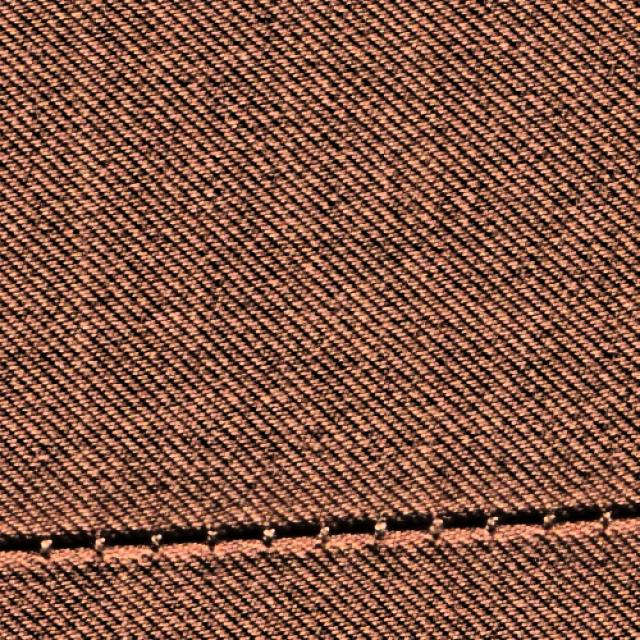Stitch: (4, 478, 198, 582), (382, 490, 564, 566)
